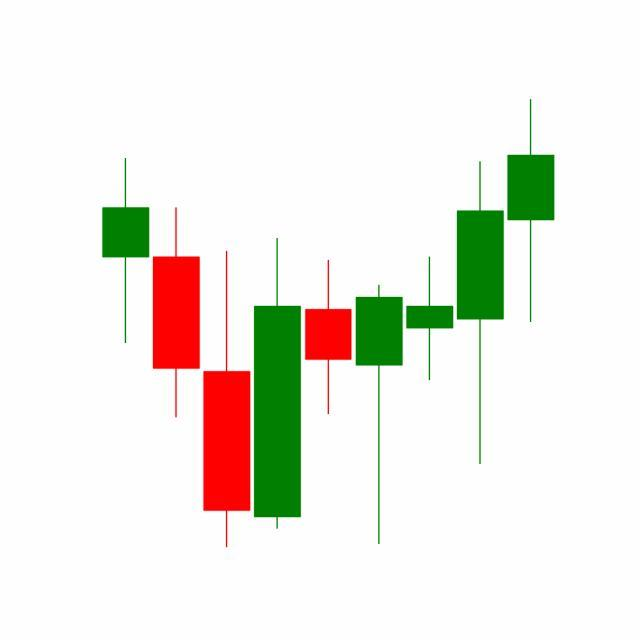Hikkake Pattern: (252, 157, 506, 549)
